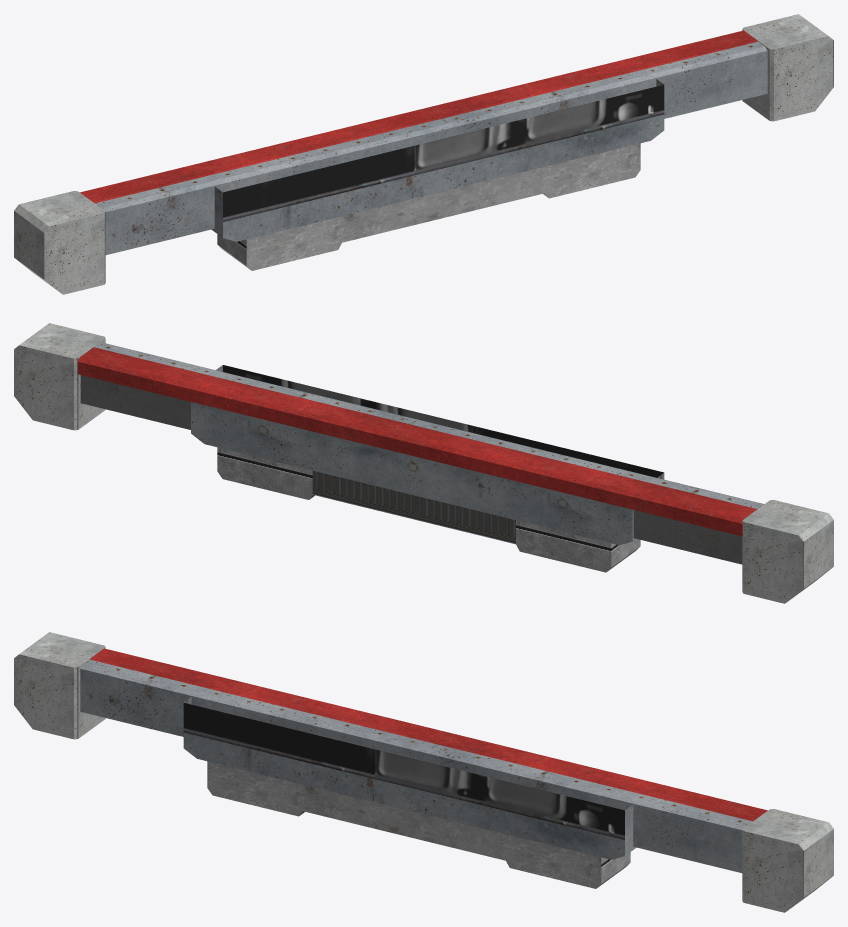
Rendered from Ob_PlatformEnd2_RC.fbx.
3 renders of one model, top to bottom at view 1: azimuth 30°, elevation 25°; view 2: azimuth 150°, elevation 25°; view 3: azimuth 330°, elevation 25°, orthographic.
Visible parts, largest first — view 1: Ob_PlatformEnd2_RC; view 2: Ob_PlatformEnd2_RC; view 3: Ob_PlatformEnd2_RC.
Boxes of the visible parts, x1,y1,x2,y2 form: Ob_PlatformEnd2_RC: (14, 14, 833, 294); Ob_PlatformEnd2_RC: (14, 323, 833, 603); Ob_PlatformEnd2_RC: (14, 632, 833, 912).
Bounding box in the file's own units: 2029 × 220 × 155.
